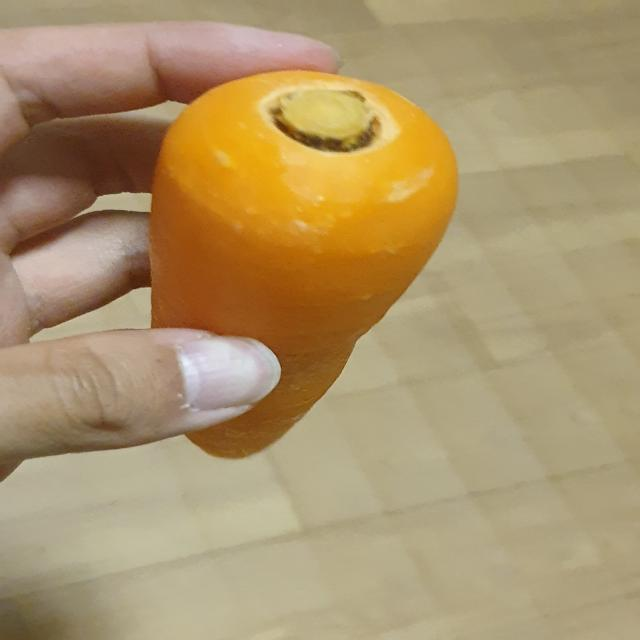Carrot: (139, 61, 481, 471)
